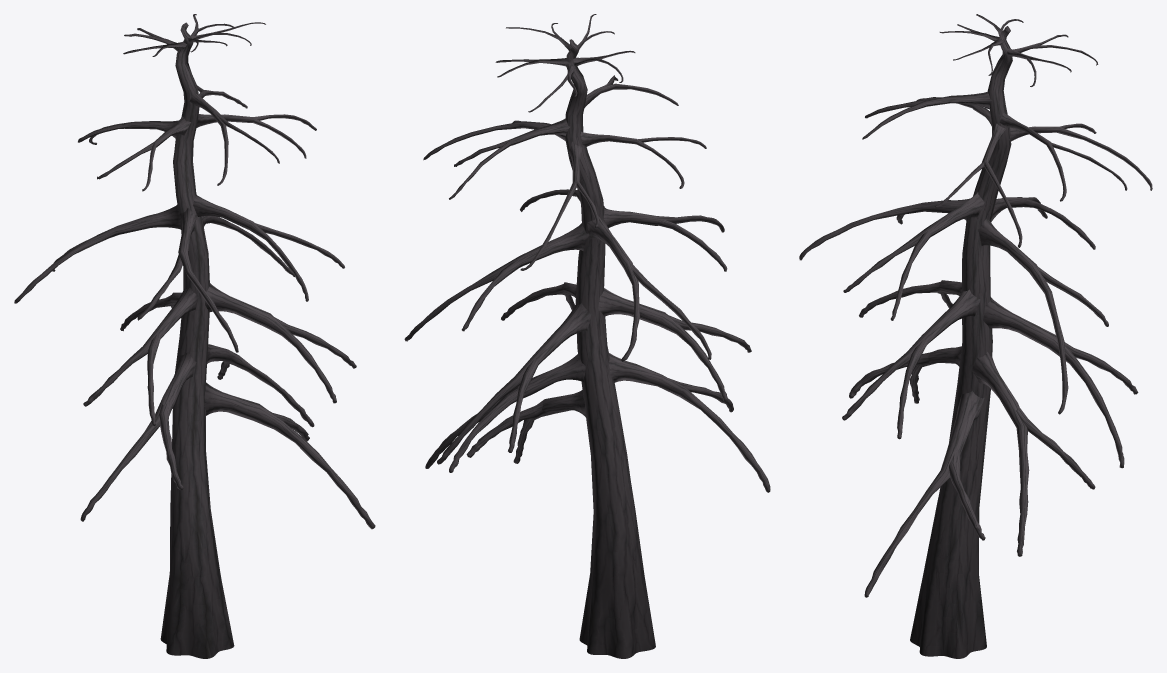
The model's file is quaternius-stylized-nature-dead-tree.glb.
The picture shows the model from 3 angles, left to right: view 1: azimuth 30°, elevation 25°; view 2: azimuth 150°, elevation 25°; view 3: azimuth 270°, elevation 25°; orthographic projection. The views are drawn at different scales.
Parts seen in each view (by area): view 1: DeadTree_5; view 2: DeadTree_5; view 3: DeadTree_5.
Boxes of the visible parts, x1,y1,x2,y2 form: DeadTree_5: [14, 14, 375, 658]; DeadTree_5: [404, 14, 770, 658]; DeadTree_5: [799, 14, 1152, 658].
Size of the model in its own units: 8.36 by 16.44 by 8.41.
Materials: 1 (1 with a texture image).
